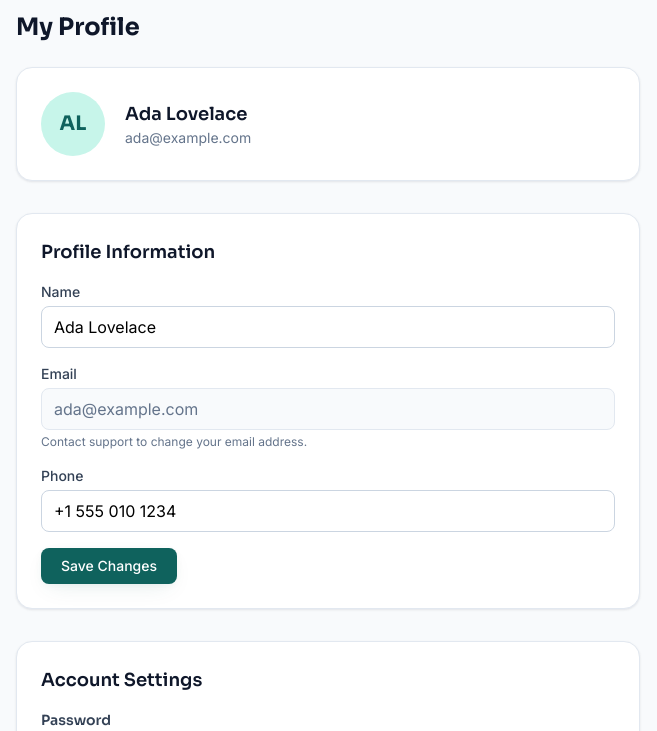
Test case: Profile › updates name and phone
Replace the text in the field labelled "Name" with "Ada K. Lovelace" at (328, 327), box [41,306,615,348]
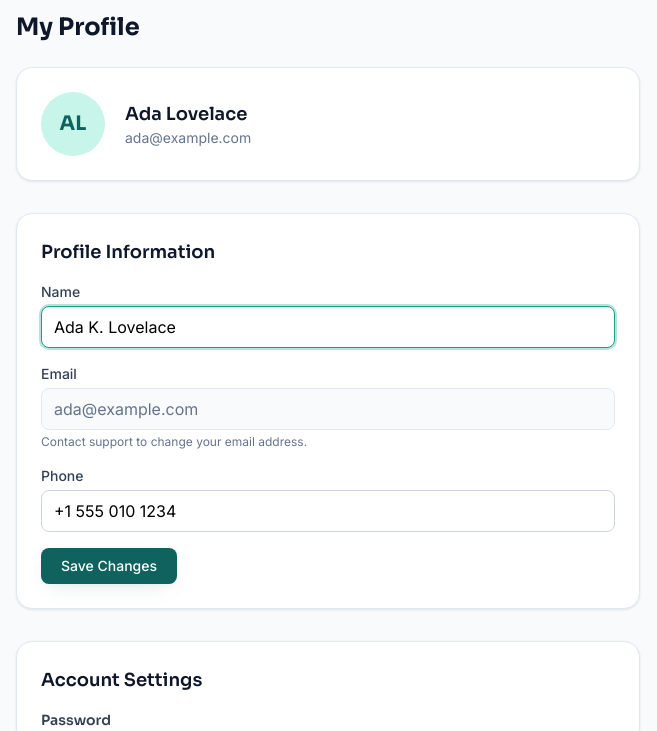
Click the button "Save Changes".
click(109, 566)  # box [41,548,177,584]
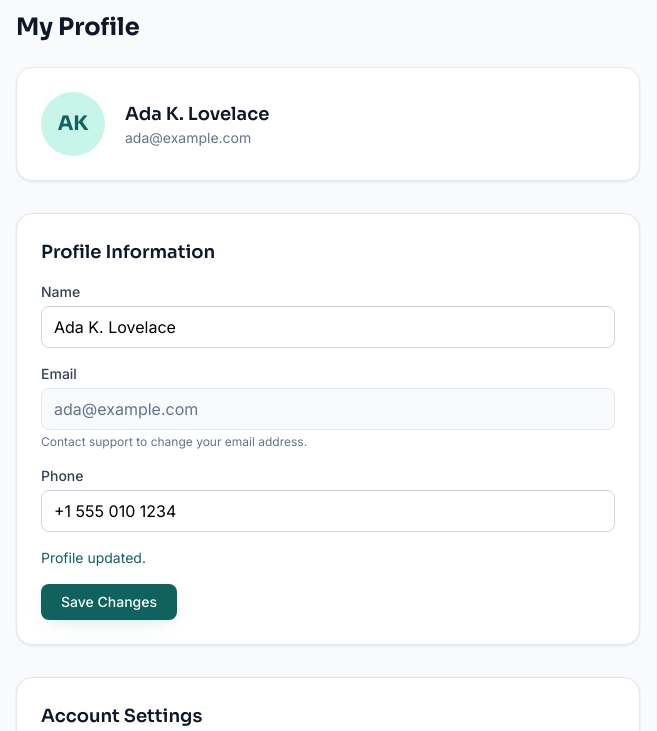
expect the text "Profile updated." is shown: met, box [41,549,146,566]
